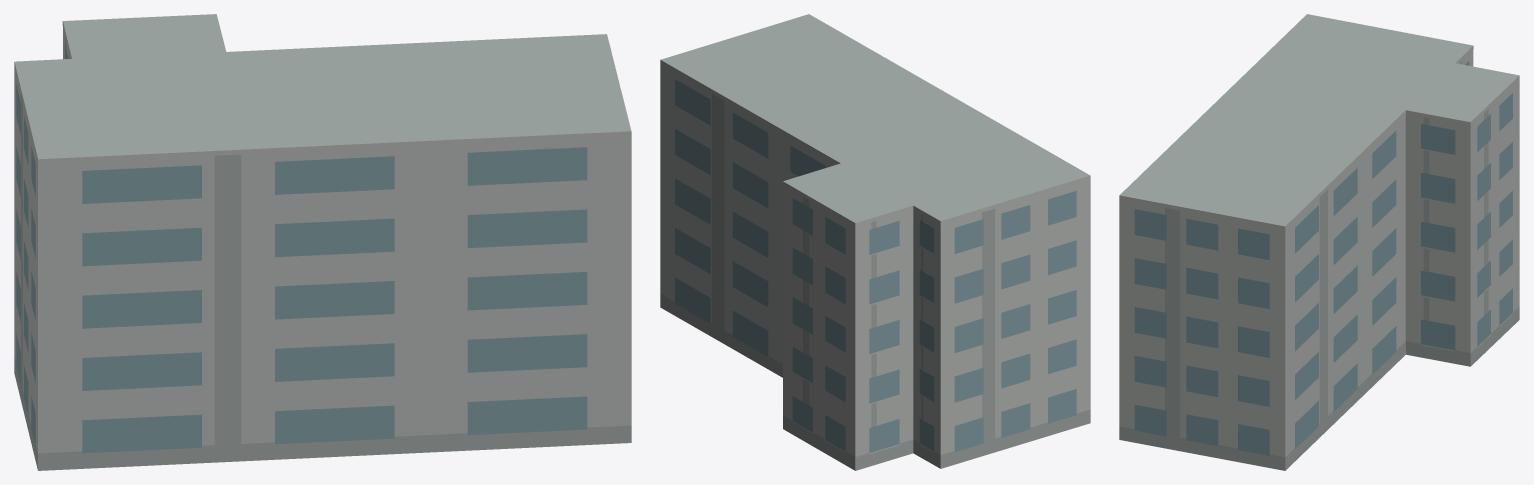
File: survey-upis-32900747.glb
3 views of the same model, side by side, from view 1: azimuth 30°, elevation 25°; view 2: azimuth 150°, elevation 25°; view 3: azimuth 270°, elevation 25° (orthographic). The views are drawn at different scales.
Parts seen in each view (by area): view 1: survey-upis-32900747.tmp; view 2: survey-upis-32900747.tmp; view 3: survey-upis-32900747.tmp.
Part boxes in pixels (box(x1,y1,x2,y2)): survey-upis-32900747.tmp: box(14, 14, 631, 470); survey-upis-32900747.tmp: box(660, 14, 1090, 470); survey-upis-32900747.tmp: box(1119, 14, 1519, 470).
Size of the model in its own units: 28.9 by 15.5 by 23.01.
